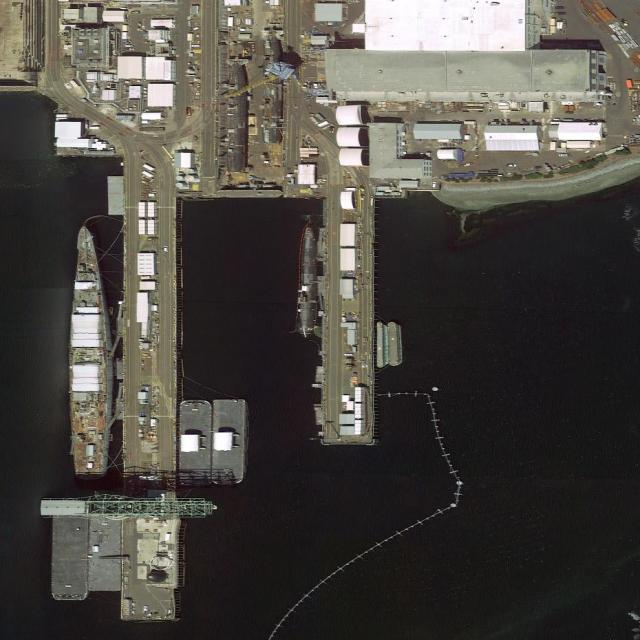Dock: (119, 201, 177, 622), (321, 197, 377, 447)
Other Warship: (68, 224, 112, 482)
Submarine: (298, 227, 317, 336)
